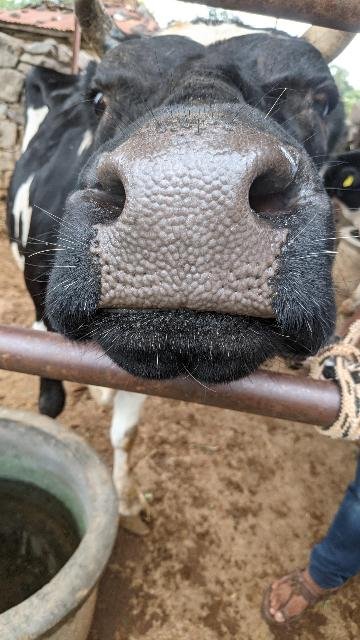Muzzle: (104, 139, 278, 325)
